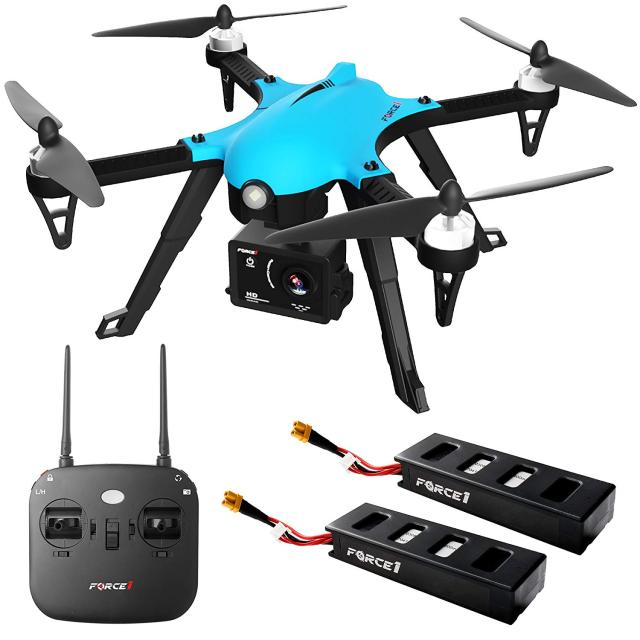drone: (21, 11, 634, 368)
